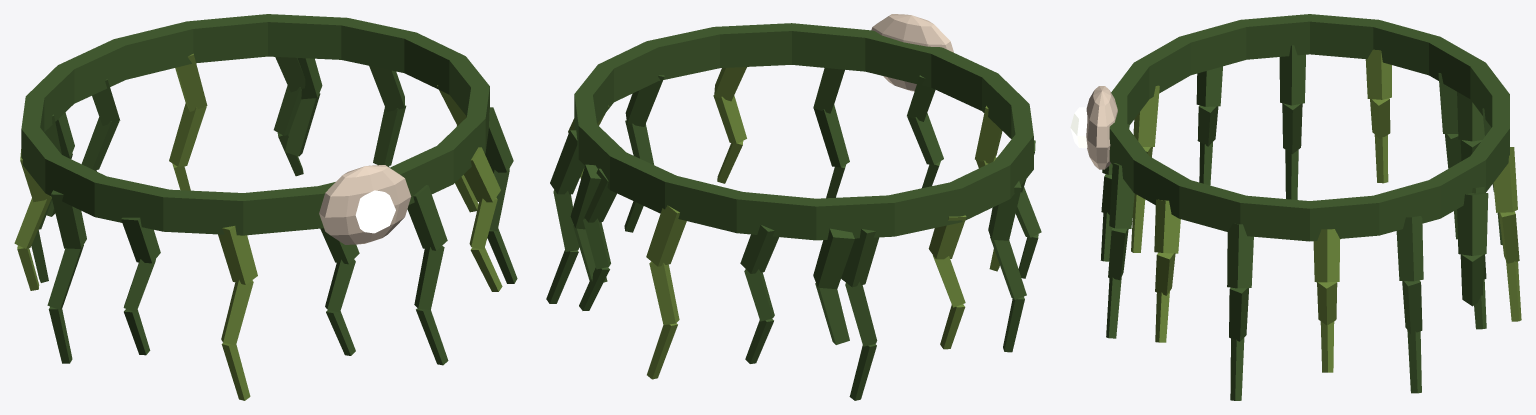
Rendered from river_king_hips.glb.
3 views of the same model, side by side, from view 1: azimuth 30°, elevation 25°; view 2: azimuth 150°, elevation 25°; view 3: azimuth 270°, elevation 25° (orthographic). The views are drawn at different scales.
Visible parts, largest first — view 1: river_king_hips; view 2: river_king_hips; view 3: river_king_hips.
Boxes of the visible parts, x1=… form: river_king_hips: x1=14, y1=14, x2=517, y2=400; river_king_hips: x1=546, y1=14, x2=1041, y2=400; river_king_hips: x1=1070, y1=14, x2=1521, y2=400.
Size of the model in its own units: 1.09 by 0.5144 by 0.9987.
